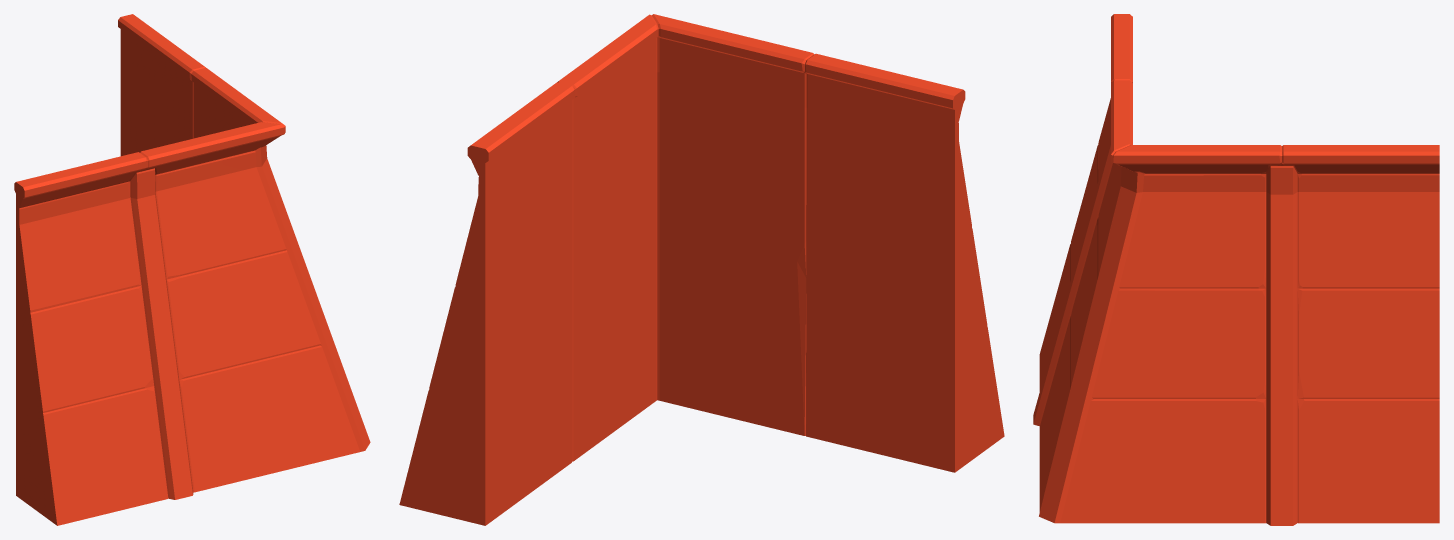
File: SM_Wall_Corner_Outer_Short_City.fbx
3 views of the same model, side by side, from view 1: azimuth 30°, elevation 25°; view 2: azimuth 150°, elevation 25°; view 3: azimuth 270°, elevation 25° (orthographic). The views are drawn at different scales.
Parts seen in each view (by area): view 1: SM_Wall_Corner_Outer_Short_City; view 2: SM_Wall_Corner_Outer_Short_City; view 3: SM_Wall_Corner_Outer_Short_City.
Part boxes in pixels (box(x1,y1,x2,y2)): SM_Wall_Corner_Outer_Short_City: box(14, 14, 370, 525); SM_Wall_Corner_Outer_Short_City: box(399, 14, 1004, 525); SM_Wall_Corner_Outer_Short_City: box(1033, 14, 1439, 525).
Bounding box in the file's own units: 13.1 × 12.1 × 13.1.
